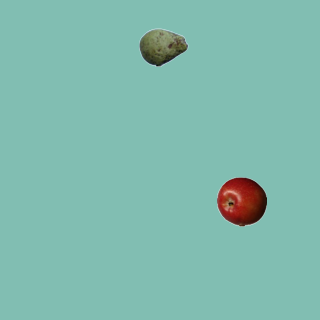Apple Braeburn: (216, 176, 266, 226)
Pear Stone: (138, 22, 188, 72)
